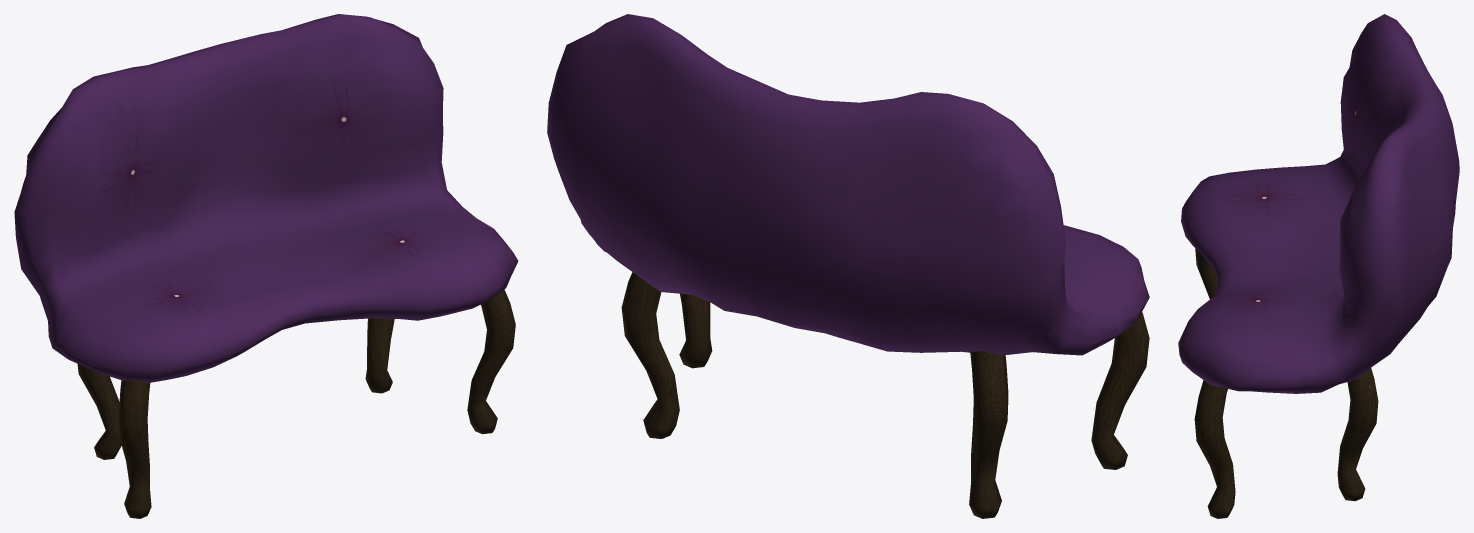
Rendered from Sofa.fbx.
The picture shows the model from 3 angles, left to right: view 1: azimuth 30°, elevation 25°; view 2: azimuth 150°, elevation 25°; view 3: azimuth 270°, elevation 25°; orthographic projection. The views are drawn at different scales.
Parts seen in each view (by area): view 1: Sofa; view 2: Sofa; view 3: Sofa.
Boxes of the visible parts, x1,y1,x2,y2 form: Sofa: (14,14,518,518); Sofa: (547,14,1149,518); Sofa: (1178,14,1459,518).
Bounding box in the file's own units: 2.33 × 1.84 × 1.33.
